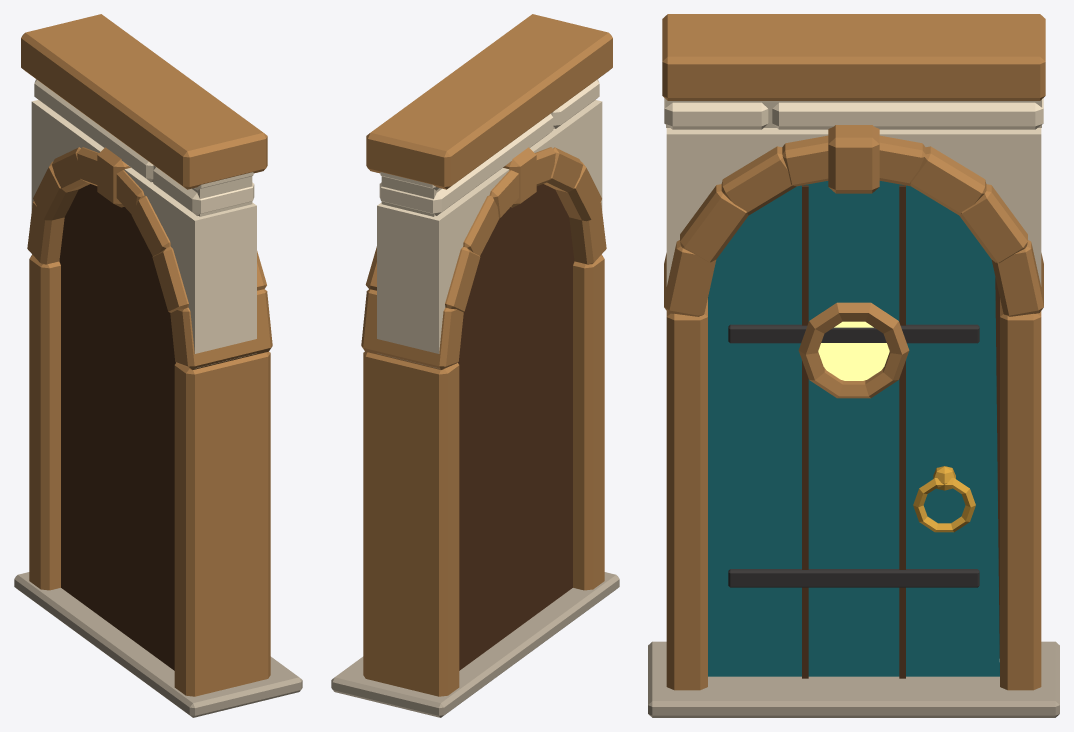
The model's file is mod_wall_curved_r2.20_n14_door.glb.
3 renders of one model, left to right at view 1: azimuth 30°, elevation 25°; view 2: azimuth 150°, elevation 25°; view 3: azimuth 270°, elevation 25°, orthographic. The views are drawn at different scales.
Parts seen in each view (by area): view 1: mod_wall_curved_r2.20_n14_door; view 2: mod_wall_curved_r2.20_n14_door; view 3: part_door_leaf, mod_wall_curved_r2.20_n14_door.
Boxes of the visible parts, box(x1,y1,x2,y2) form: mod_wall_curved_r2.20_n14_door: box(14, 14, 302, 717); mod_wall_curved_r2.20_n14_door: box(331, 14, 619, 717); part_door_leaf: box(708, 181, 999, 678); mod_wall_curved_r2.20_n14_door: box(648, 14, 1059, 717).
Size of the model in its own units: 0.4 by 1.9 by 1.1.
